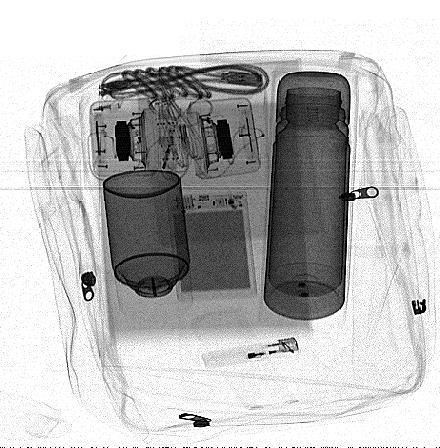Lighter: (199, 335, 301, 370)
Powerbank: (166, 192, 259, 303)
Sprayer: (101, 169, 195, 323)
